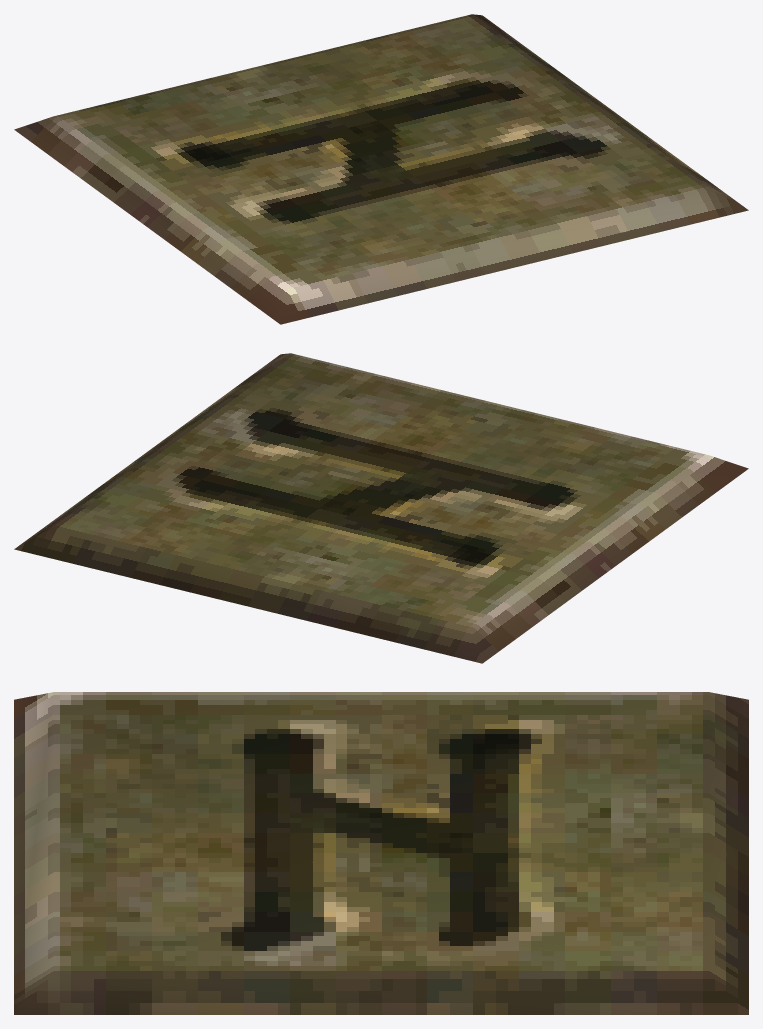
The model's file is EREBOR_RUNE_PZL_EREBOR_PZL_TILE_STATIC10.fbx.
The picture shows the model from 3 angles, top to bottom: view 1: azimuth 30°, elevation 25°; view 2: azimuth 150°, elevation 25°; view 3: azimuth 270°, elevation 25°; orthographic projection. The views are drawn at different scales.
Visible parts, largest first — view 1: EREBOR_RUNE_PZL_EREBOR_PZL_TILE_STATIC10; view 2: EREBOR_RUNE_PZL_EREBOR_PZL_TILE_STATIC10; view 3: EREBOR_RUNE_PZL_EREBOR_PZL_TILE_STATIC10.
Part boxes in pixels (box(x1,y1,x2,y2)): EREBOR_RUNE_PZL_EREBOR_PZL_TILE_STATIC10: box(14, 14, 748, 324); EREBOR_RUNE_PZL_EREBOR_PZL_TILE_STATIC10: box(14, 353, 748, 663); EREBOR_RUNE_PZL_EREBOR_PZL_TILE_STATIC10: box(14, 692, 748, 1014).
Bounding box in the file's own units: 10240 × 370 × 10093.
Materials: 1 (1 with a texture image).
